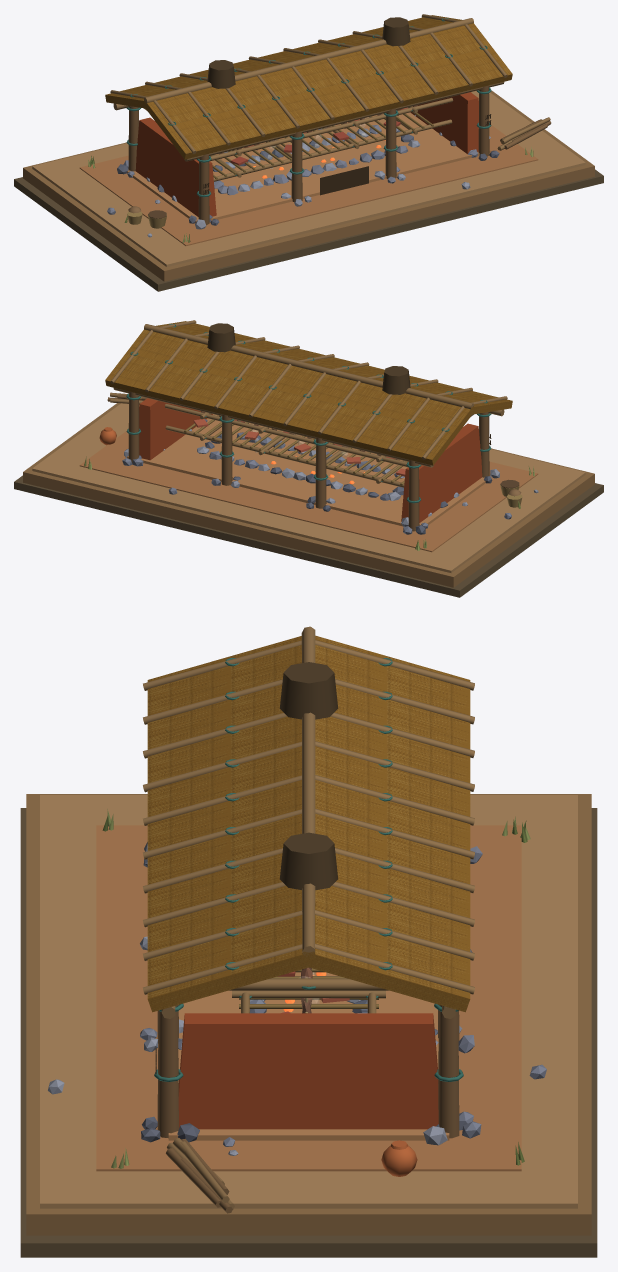
File: civic-smokehouse-built.glb
3 renders of one model, top to bottom at view 1: azimuth 30°, elevation 25°; view 2: azimuth 150°, elevation 25°; view 3: azimuth 270°, elevation 25°, orthographic. The views are drawn at different scales.
Parts seen in each view (by area): view 1: mesh_149, mesh_1, mesh_16, mesh_0, Era1DepthKit, mesh_17, mesh_69, mesh_150, mesh_76, mesh_151, mesh_207, mesh_193 (+6 smaller); view 2: mesh_150, mesh_1, mesh_16, mesh_17, mesh_0, Era1DepthKit, mesh_69, mesh_149, mesh_76, mesh_151, mesh_206, mesh_192 (+6 smaller); view 3: mesh_1, mesh_16, mesh_149, mesh_150, mesh_76, mesh_0, Era1DepthKit, mesh_17, mesh_151, mesh_132, mesh_125, mesh_147 (+22 smaller).
Boxes of the visible parts, x1=… form: mesh_149: x1=143, y1=23, x2=512, y2=159; mesh_1: x1=32, y1=91, x2=585, y2=266; mesh_16: x1=79, y1=125, x2=538, y2=245; mesh_0: x1=23, y1=91, x2=594, y2=281; Era1DepthKit: x1=14, y1=17, x2=603, y2=291; mesh_17: x1=127, y1=112, x2=490, y2=222; mesh_69: x1=135, y1=117, x2=216, y2=216; mesh_150: x1=105, y1=15, x2=473, y2=108; mesh_76: x1=410, y1=92, x2=478, y2=154; mesh_151: x1=144, y1=18, x2=473, y2=103; mesh_207: x1=210, y1=97, x2=453, y2=161; mesh_193: x1=213, y1=119, x2=452, y2=181; mesh_150: x1=105, y1=329, x2=473, y2=465; mesh_1: x1=32, y1=403, x2=585, y2=572; mesh_16: x1=79, y1=431, x2=538, y2=552; mesh_17: x1=127, y1=414, x2=485, y2=526; mesh_0: x1=23, y1=403, x2=594, y2=587; Era1DepthKit: x1=14, y1=323, x2=603, y2=597; mesh_69: x1=401, y1=423, x2=482, y2=522; mesh_149: x1=144, y1=321, x2=512, y2=414; mesh_76: x1=139, y1=398, x2=212, y2=460; mesh_151: x1=144, y1=324, x2=474, y2=409; mesh_206: x1=165, y1=403, x2=407, y2=467; mesh_192: x1=165, y1=425, x2=404, y2=487; mesh_1: x1=40, y1=795, x2=577, y2=1208; mesh_16: x1=96, y1=825, x2=521, y2=1171; mesh_149: x1=147, y1=636, x2=318, y2=1012; mesh_150: x1=299, y1=635, x2=470, y2=1012; mesh_76: x1=178, y1=1013, x2=438, y2=1129; mesh_0: x1=26, y1=794, x2=591, y2=1235; Era1DepthKit: x1=20, y1=662, x2=597, y2=1257; mesh_17: x1=168, y1=972, x2=449, y2=1140; mesh_151: x1=301, y1=626, x2=315, y2=956; mesh_132: x1=157, y1=1005, x2=178, y2=1138; mesh_125: x1=438, y1=1005, x2=459, y2=1138; mesh_147: x1=229, y1=978, x2=388, y2=990.
Size of the model in its own units: 22.77 by 6.91 by 12.75.
45 materials, 2 textured.
